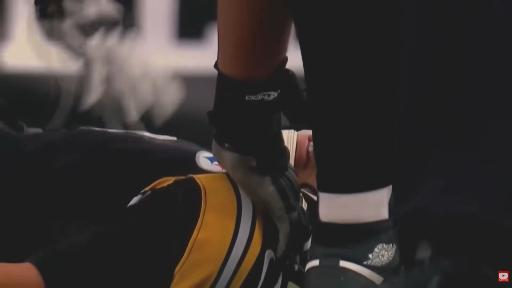Helmet: (280, 127, 297, 165)
Jersey: (0, 127, 222, 260), (29, 174, 282, 287)
Player: (0, 129, 277, 286), (0, 173, 287, 287)
